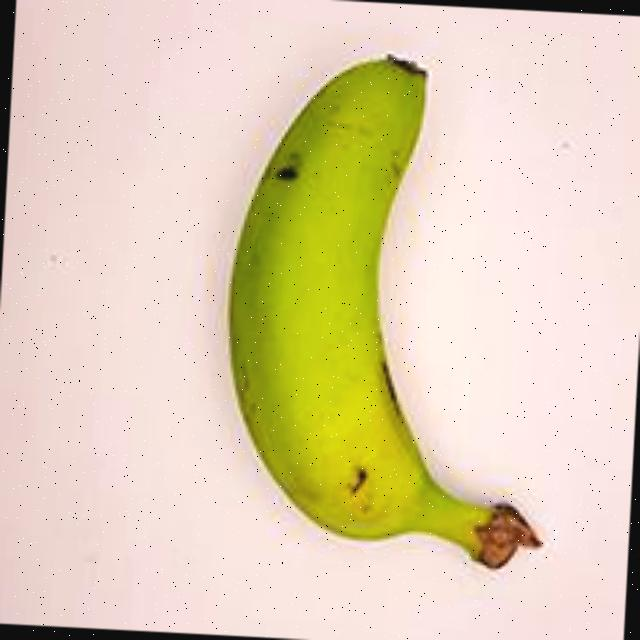Unripe: (189, 20, 606, 598)
